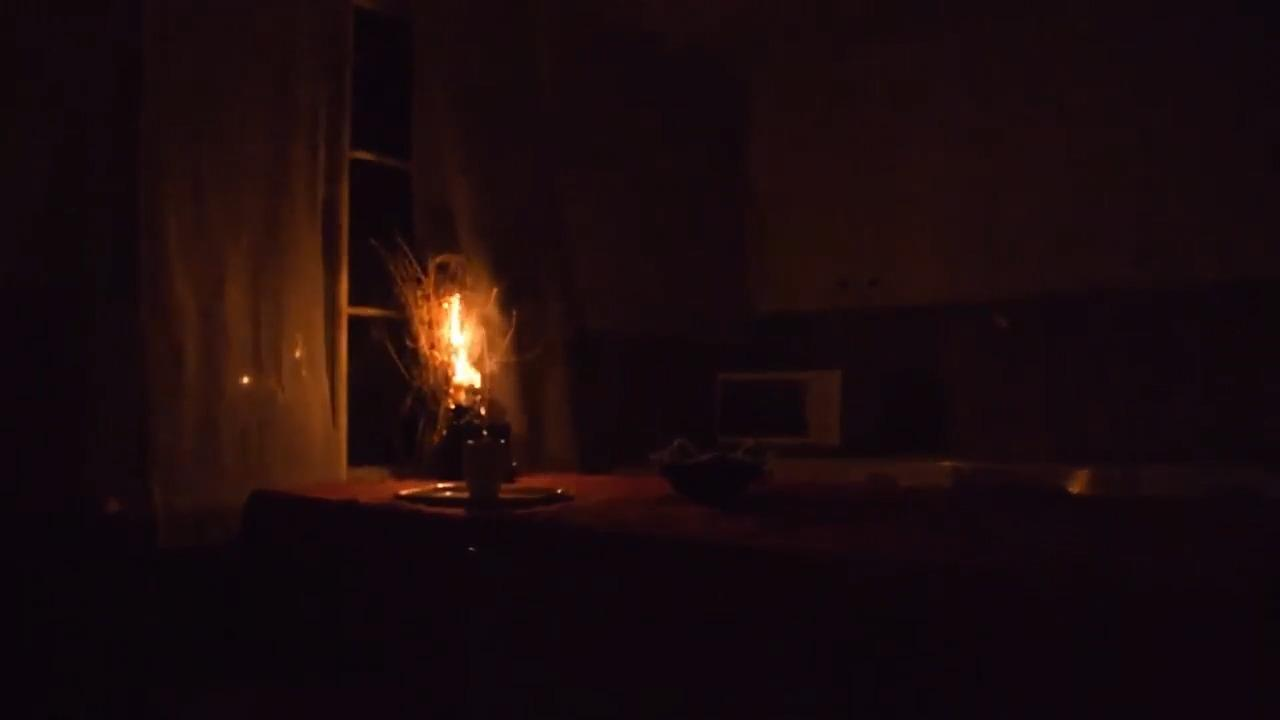fire: (435, 281, 495, 400)
